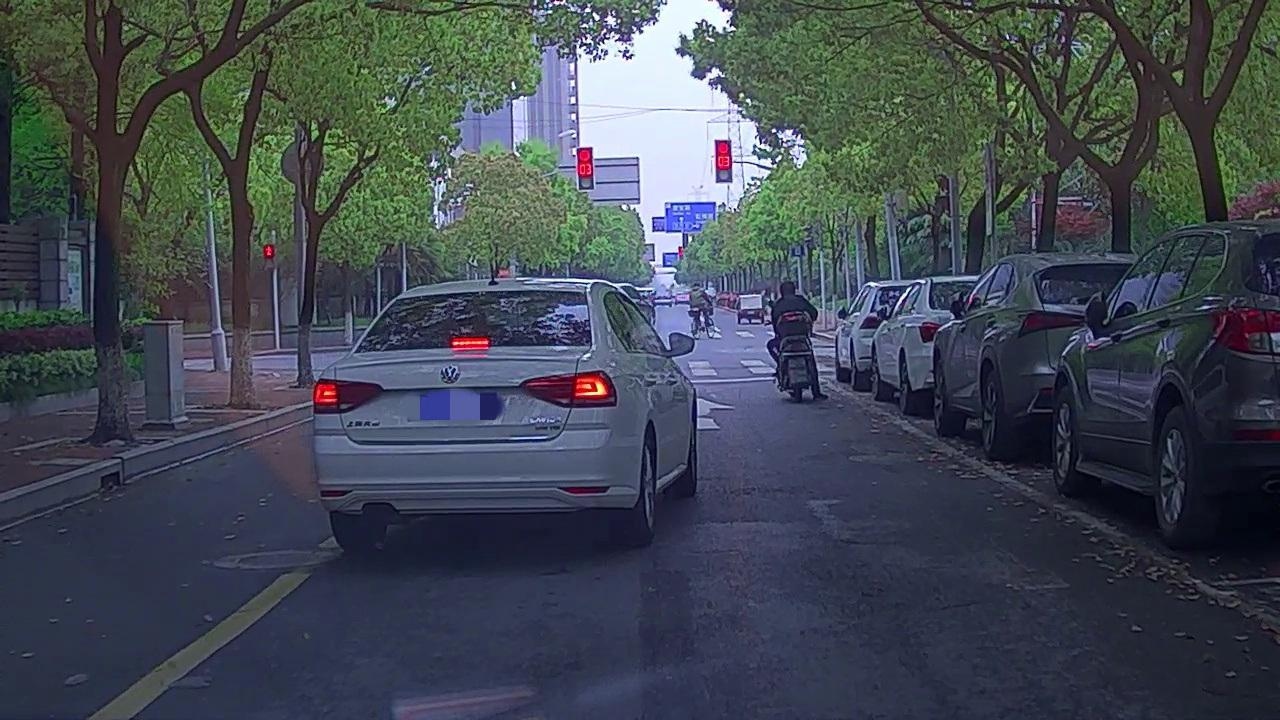traffic_light: (577, 149, 594, 188), (716, 139, 730, 182)
